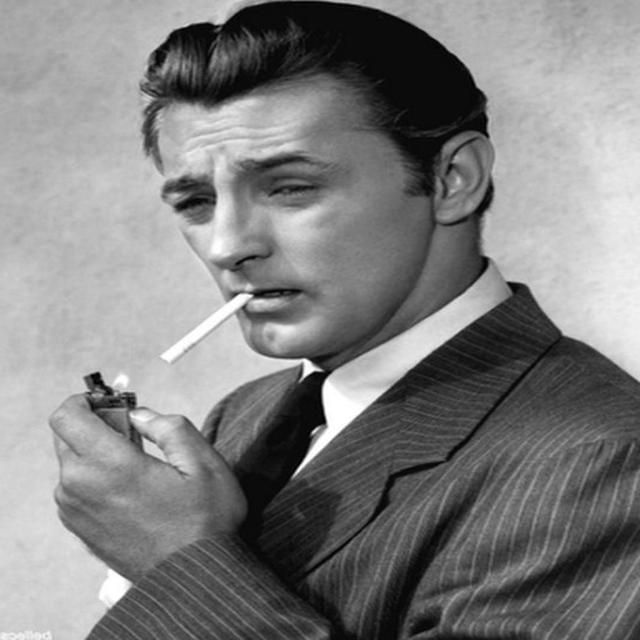smoking: (132, 0, 534, 378)
